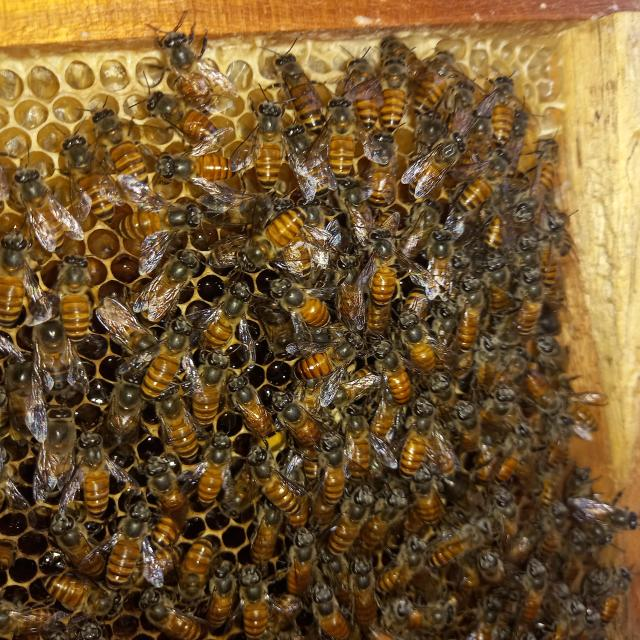honeybee: (37, 327, 122, 419), (34, 546, 116, 620), (281, 277, 375, 338), (74, 432, 146, 510), (203, 279, 271, 357), (109, 493, 162, 586), (144, 578, 223, 640), (5, 187, 90, 244), (115, 308, 183, 378), (233, 570, 301, 640), (151, 332, 199, 423), (138, 457, 208, 518), (402, 129, 476, 185), (362, 266, 419, 338), (501, 192, 551, 274), (50, 503, 118, 563), (304, 570, 361, 640), (159, 400, 213, 472), (136, 256, 220, 302), (238, 504, 312, 555), (57, 260, 116, 322), (282, 136, 344, 194), (37, 415, 87, 486), (258, 466, 317, 526), (0, 244, 40, 330), (287, 344, 365, 388), (256, 55, 322, 106), (233, 107, 287, 168), (162, 41, 216, 99), (521, 135, 567, 199), (416, 221, 456, 294), (372, 589, 435, 635), (339, 414, 379, 486), (227, 391, 280, 445), (475, 542, 530, 594), (452, 284, 493, 352), (428, 519, 520, 549), (260, 206, 324, 249), (102, 178, 164, 222), (88, 111, 154, 152), (206, 567, 247, 633), (332, 499, 368, 574), (349, 538, 391, 600), (159, 170, 224, 210), (277, 400, 334, 445), (136, 106, 218, 137), (576, 584, 628, 632), (40, 138, 108, 174), (379, 44, 412, 118), (490, 445, 536, 496), (184, 530, 218, 597), (191, 357, 229, 416), (341, 48, 376, 110), (379, 489, 412, 553), (339, 198, 375, 255), (538, 334, 574, 391), (449, 173, 483, 231), (442, 390, 483, 437), (430, 484, 467, 536), (402, 314, 436, 370), (412, 58, 456, 99), (385, 358, 420, 408), (463, 67, 486, 143), (335, 135, 396, 162), (396, 428, 426, 481), (538, 422, 590, 452), (580, 493, 616, 533), (494, 82, 520, 132), (504, 284, 537, 323), (492, 395, 534, 423), (501, 623, 566, 640), (506, 336, 528, 371)
